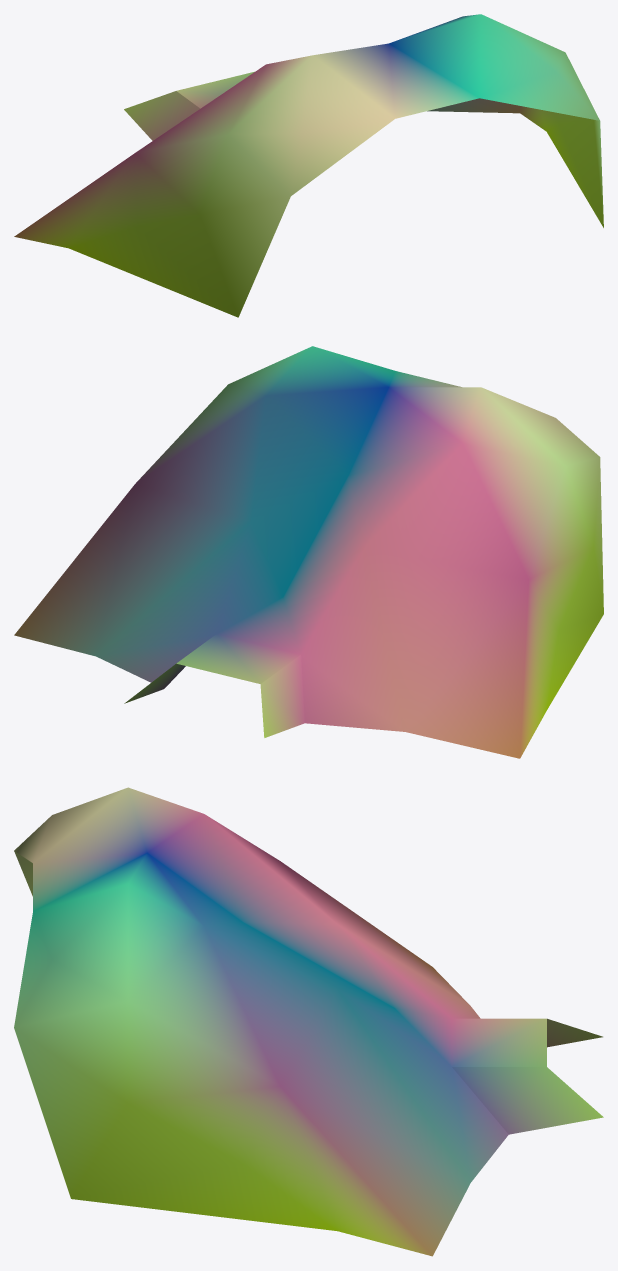
3 views of the same model, one above another, from view 1: azimuth 30°, elevation 25°; view 2: azimuth 150°, elevation 25°; view 3: azimuth 270°, elevation 25° (orthographic). The views are drawn at different scales.
Visible parts, largest first — view 1: part; view 2: part; view 3: part.
Part boxes in pixels (x1,y1,x2,y2): part: (14, 14, 603, 317); part: (14, 346, 603, 758); part: (14, 787, 603, 1256).
Bounding box in the file's own units: 36 × 16 × 31.
